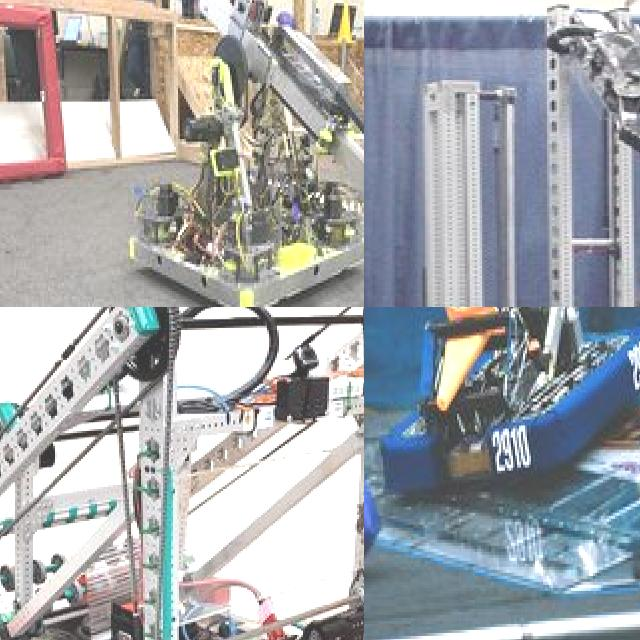FRC-Robots: (0, 307, 364, 640), (364, 0, 640, 307), (124, 0, 364, 307), (378, 307, 640, 485)
